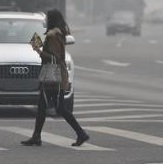person: (19, 8, 90, 149)
